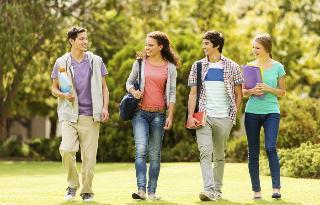person - v3 P: (52, 27, 109, 201), (188, 31, 243, 200), (126, 31, 181, 199), (243, 35, 285, 198)
